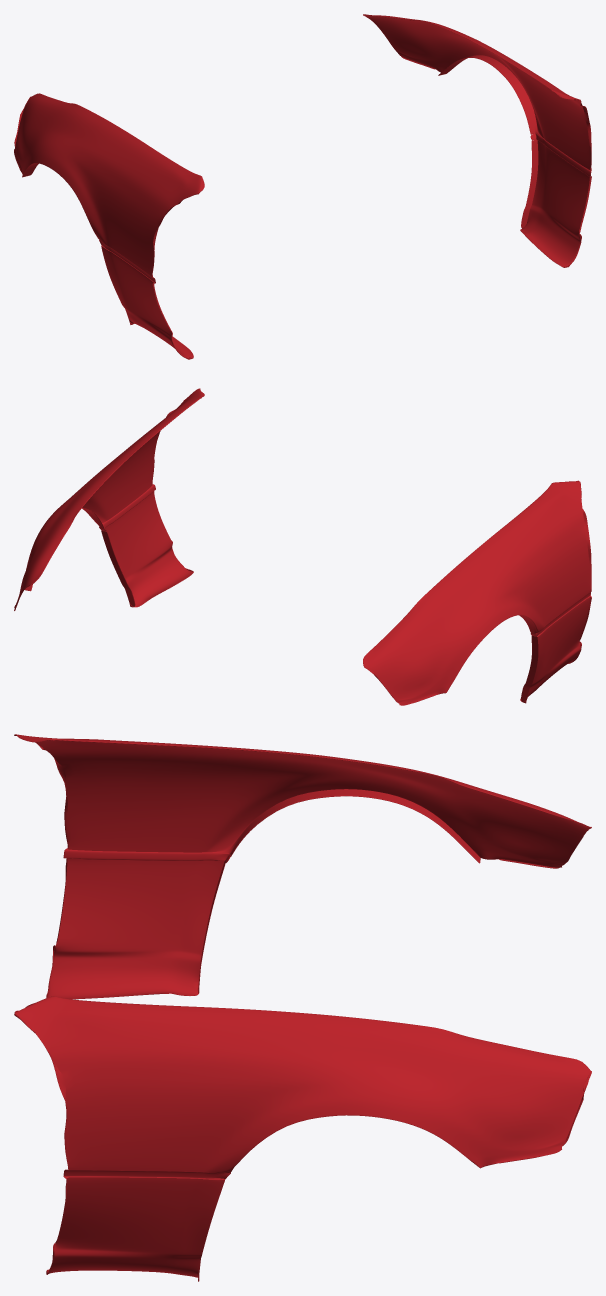
The model's file is lipped.glb.
3 renders of one model, top to bottom at view 1: azimuth 30°, elevation 25°; view 2: azimuth 150°, elevation 25°; view 3: azimuth 270°, elevation 25°, orthographic. The views are drawn at different scales.
Visible parts, largest first — view 1: Miata_Aero_GuardLipped; view 2: Miata_Aero_GuardLipped; view 3: Miata_Aero_GuardLipped.
Part boxes in pixels (bbox=[...]): Miata_Aero_GuardLipped: bbox=[14, 14, 591, 359]; Miata_Aero_GuardLipped: bbox=[14, 388, 591, 705]; Miata_Aero_GuardLipped: bbox=[14, 734, 591, 1281].
Size of the model in its own units: 68.3 by 26.19 by 50.99.
